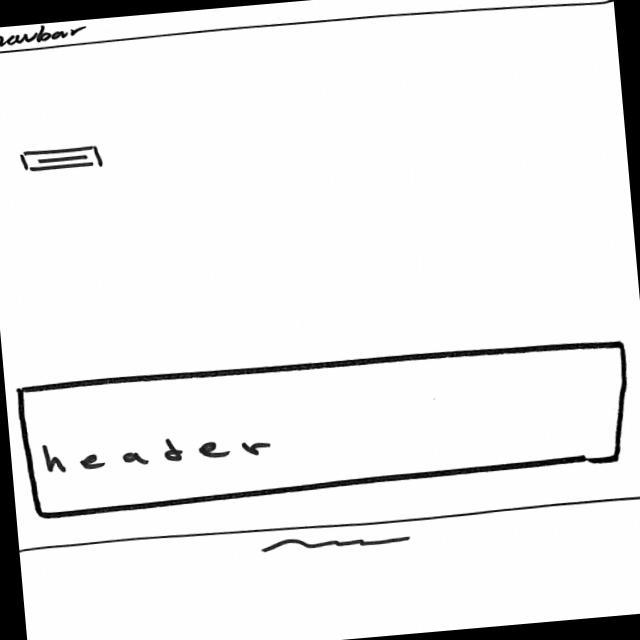container: (16, 333, 638, 520), (1, 1, 614, 59)
icon-button: (16, 145, 108, 177)
label: (38, 425, 271, 476), (1, 20, 95, 49)
text: (262, 529, 414, 559)
